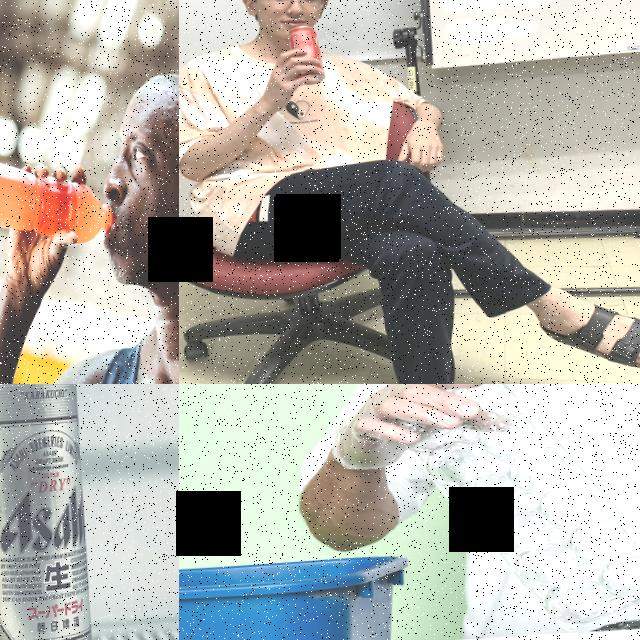bottle: (0, 149, 116, 252)
can: (0, 384, 100, 640), (284, 24, 326, 87)
